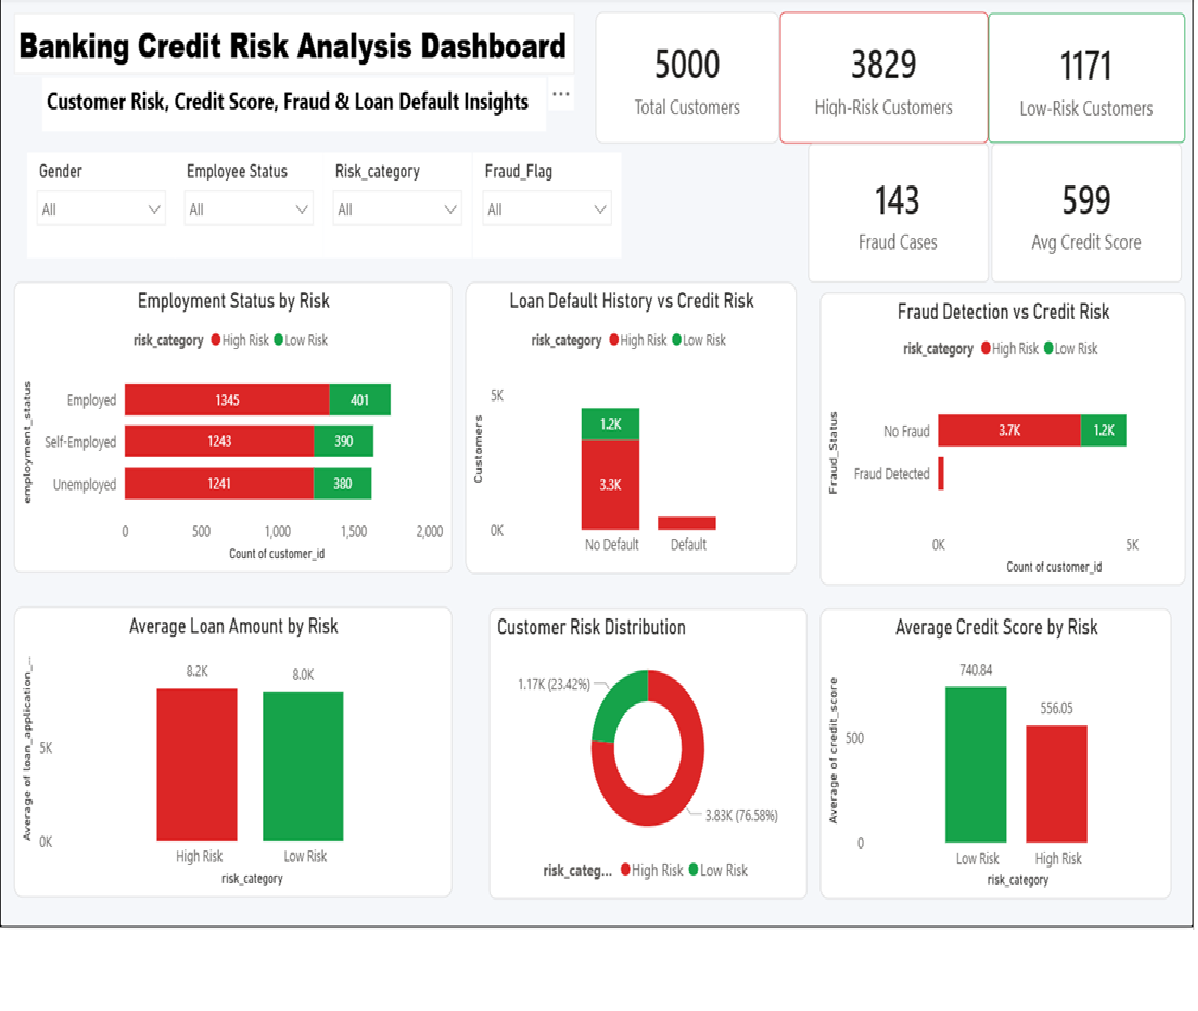

The page's visual inventory and layout, read from the dashboard file:
{"tool":"powerbi","page":{"name":"Page 1","canvas":[1280,720],"ordinal":0},"visuals":[{"type":"textbox","box":[15.1,12.3,601,48],"z":0},{"type":"cardVisual","fields":{"Data":["Count(credit_risk_dataset.Column1)"]},"box":[638.9,11.9,197.1,102.1],"z":1000},{"type":"cardVisual","fields":{"Data":["credit_risk_dataset.High Risk Customers"]},"box":[836.1,11.9,223.3,102.1],"z":2000},{"type":"cardVisual","fields":{"Data":["credit_risk_dataset.Fraud Cases"]},"box":[865.8,114,193.6,106.9],"z":3000},{"type":"cardVisual","fields":{"Data":["credit_risk_dataset.Low Risk Customers"]},"box":[1059.3,13.1,211.4,100.9],"z":4000},{"type":"cardVisual","fields":{"Data":["credit_risk_dataset.Avg Credit Score"]},"box":[1062.9,114,204.3,106.9],"z":5000},{"type":"donutChart","title":"Customer Risk Distribution","fields":{"Category":["credit_risk_dataset.risk_category"],"Y":["Count(credit_risk_dataset.Column1)"]},"box":[524.8,472.7,340.5,225.1],"z":6000},{"type":"clusteredColumnChart","title":"Average Credit Score by Risk","fields":{"Category":["credit_risk_dataset.risk_category"],"Y":["Avg(credit_risk_dataset.credit_score)"]},"box":[879.3,472.7,377.1,225.1],"z":7000},{"type":"columnChart","title":"Loan Default History vs Credit Risk","fields":{"Series":["credit_risk_dataset.risk_category"],"Y":["CountNonNull(credit_risk_dataset.Column1)"],"Category":["credit_risk_dataset.Loan_Default_Status"]},"box":[498.8,220.9,355.1,225.6],"z":8000},{"type":"barChart","title":"Fraud Detection vs Credit Risk","fields":{"Series":["credit_risk_dataset.risk_category"],"Y":["CountNonNull(credit_risk_dataset.customer_id)"],"Category":["credit_risk_dataset.Fraud_Status"]},"box":[879.1,229.1,391.9,226.7],"z":9000},{"type":"barChart","title":"Employment Status by Risk","fields":{"Category":["credit_risk_dataset.employment_status"],"Series":["credit_risk_dataset.risk_category"],"Y":["CountNonNull(credit_risk_dataset.customer_id)"]},"box":[15.1,220.9,469.3,225],"z":10000},{"type":"clusteredColumnChart","title":"Average Loan Amount by Risk","fields":{"Category":["credit_risk_dataset.risk_category"],"Y":["Avg(credit_risk_dataset.loan_application_amount)"]},"box":[15.1,472,469.3,225],"z":11000},{"type":"slicer","fields":{"Values":["credit_risk_dataset.gender"]},"box":[28.5,121.1,159.1,81.9],"z":12000},{"type":"slicer","fields":{"Values":["credit_risk_dataset.fraud_flag"]},"box":[507.1,121.1,159.1,81.9],"z":13000},{"type":"slicer","fields":{"Values":["credit_risk_dataset.employment_status"]},"box":[187.6,121.1,159.1,81.9],"z":14000},{"type":"slicer","fields":{"Values":["credit_risk_dataset.risk_category"]},"box":[346.8,121.1,159.1,81.9],"z":15000},{"type":"textbox","box":[45.1,62.9,540.4,41.6],"z":16000}]}

Visuals, with their boxes on the page's 1280x720 design canvas (x1, y1, x2, y2). These are canvas units, not pixel positions in the 1198x1011 screenshot, which may show the page scaled, cropped or inside an application window:
textbox: select_region(15, 12, 616, 60)
cardVisual - Count(credit_risk_dataset.Column1): select_region(639, 12, 836, 114)
cardVisual - credit_risk_dataset.High Risk Customers: select_region(836, 12, 1059, 114)
cardVisual - credit_risk_dataset.Fraud Cases: select_region(866, 114, 1059, 221)
cardVisual - credit_risk_dataset.Low Risk Customers: select_region(1059, 13, 1271, 114)
cardVisual - credit_risk_dataset.Avg Credit Score: select_region(1063, 114, 1267, 221)
"Customer Risk Distribution" donutChart: select_region(525, 473, 865, 698)
"Average Credit Score by Risk" clusteredColumnChart: select_region(879, 473, 1256, 698)
"Loan Default History vs Credit Risk" columnChart: select_region(499, 221, 854, 446)
"Fraud Detection vs Credit Risk" barChart: select_region(879, 229, 1271, 456)
"Employment Status by Risk" barChart: select_region(15, 221, 484, 446)
"Average Loan Amount by Risk" clusteredColumnChart: select_region(15, 472, 484, 697)
slicer - credit_risk_dataset.gender: select_region(28, 121, 188, 203)
slicer - credit_risk_dataset.fraud_flag: select_region(507, 121, 666, 203)
slicer - credit_risk_dataset.employment_status: select_region(188, 121, 347, 203)
slicer - credit_risk_dataset.risk_category: select_region(347, 121, 506, 203)
textbox: select_region(45, 63, 586, 104)
